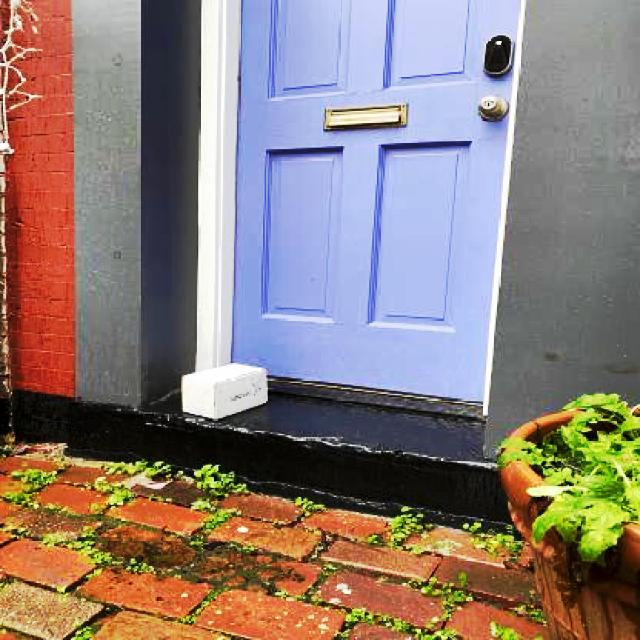Box: (174, 358, 272, 425)
